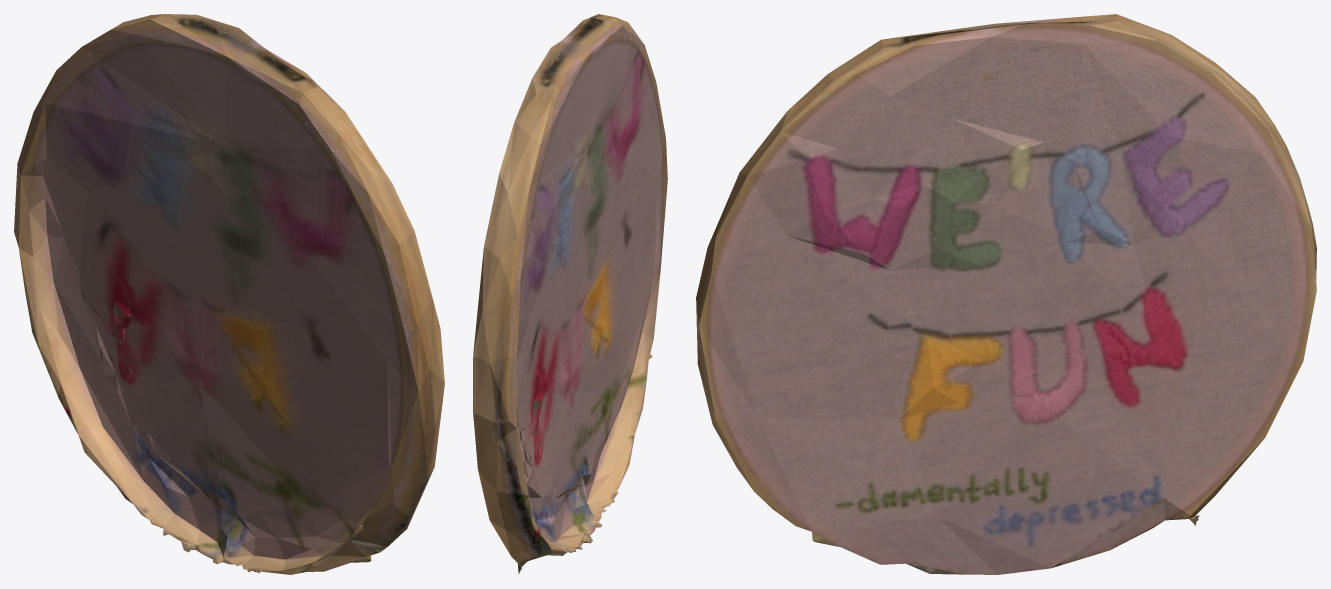
3 views of the same model, side by side, from view 1: azimuth 30°, elevation 25°; view 2: azimuth 150°, elevation 25°; view 3: azimuth 270°, elevation 25° (orthographic). The views are drawn at different scales.
Parts seen in each view (by area): view 1: Stickerei We Are fun_0.8k_512; view 2: Stickerei We Are fun_0.8k_512; view 3: Stickerei We Are fun_0.8k_512.
Boxes of the visible parts, x1,y1,x2,y2 form: Stickerei We Are fun_0.8k_512: [14, 14, 444, 574]; Stickerei We Are fun_0.8k_512: [473, 14, 667, 574]; Stickerei We Are fun_0.8k_512: [696, 14, 1316, 574].
Bounding box in the file's own units: 0.0485 × 0.164 × 0.1668.
1 material, 1 textured.
